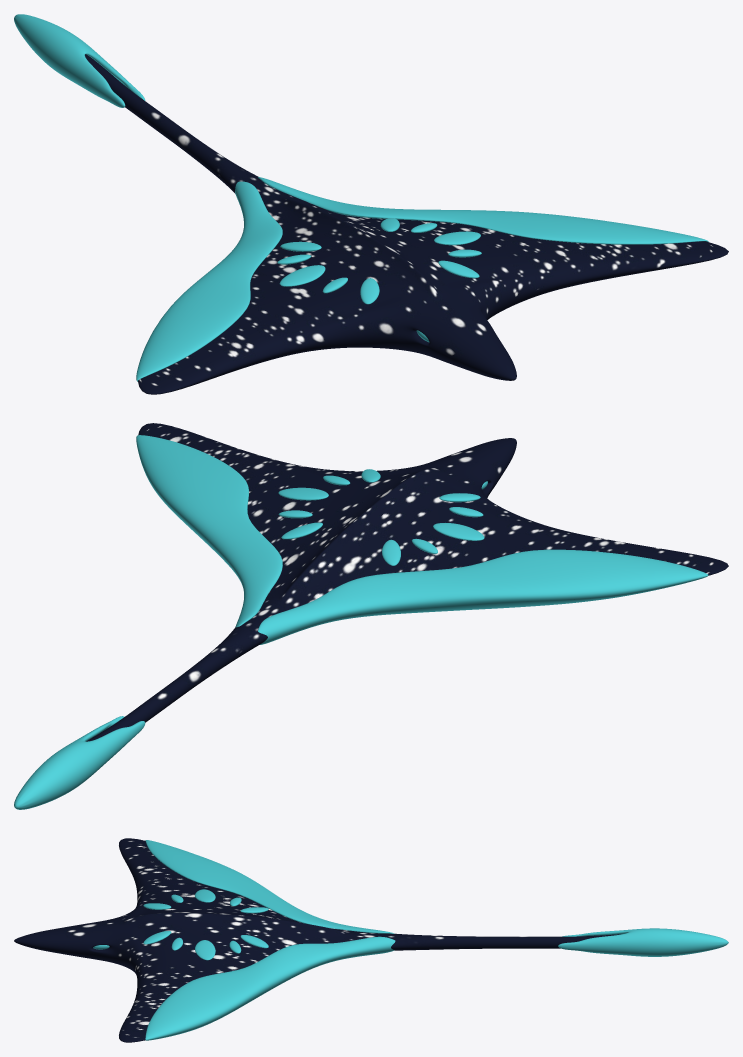
Rendered from 여섯줄 아가미 가오리_4.fbx.
3 renders of one model, top to bottom at view 1: azimuth 30°, elevation 25°; view 2: azimuth 150°, elevation 25°; view 3: azimuth 270°, elevation 25°, orthographic. The views are drawn at different scales.
Visible parts, largest first — view 1: Cylinder002; view 2: Cylinder002; view 3: Cylinder002.
Boxes of the visible parts, bbox=[...] form: Cylinder002: bbox=[14, 14, 728, 394]; Cylinder002: bbox=[14, 423, 728, 809]; Cylinder002: bbox=[14, 838, 728, 1042].
Bounding box in the file's own units: 73.24 × 7.71 × 109.
Materials: 2 (2 with a texture image).
